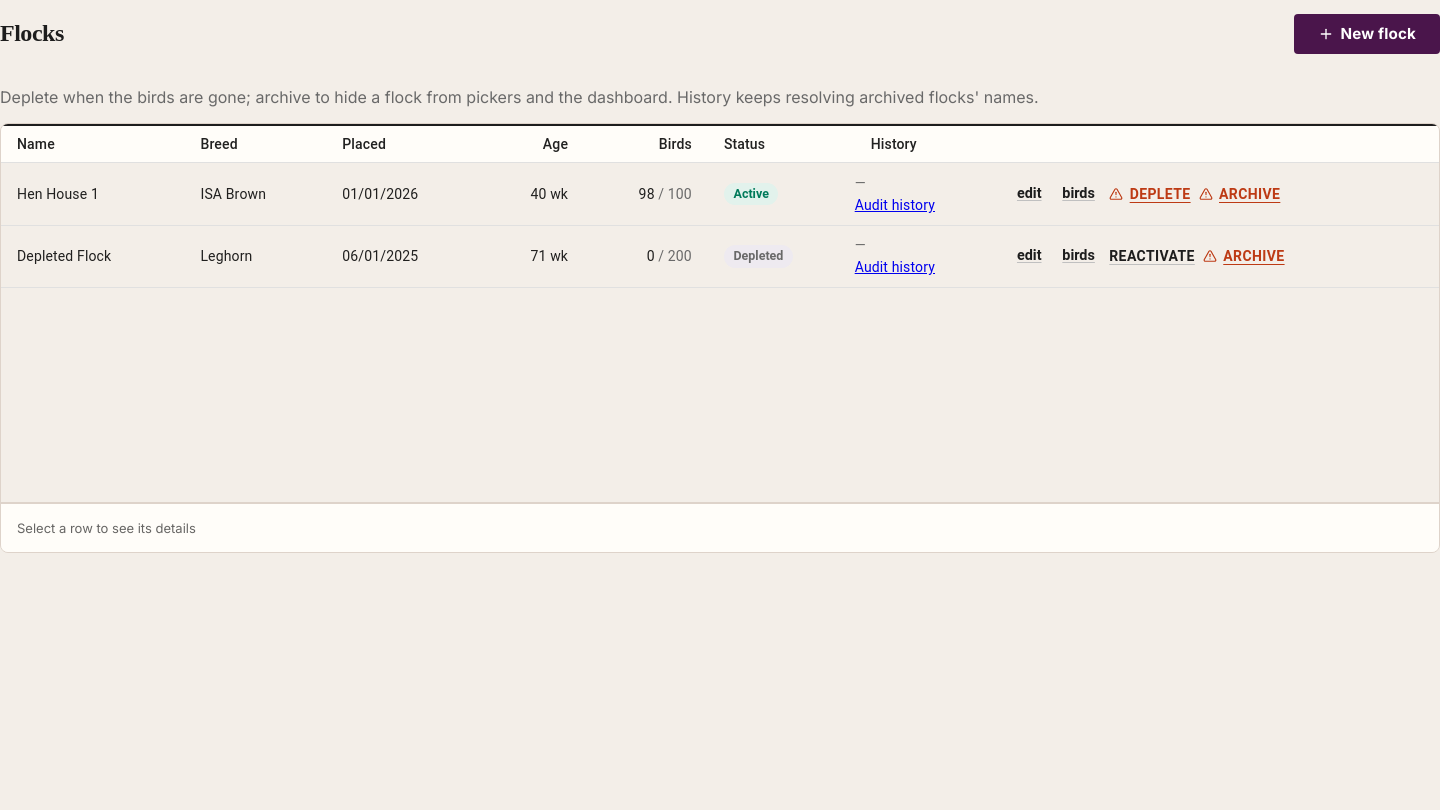
Test: FlocksPage selected-record inspector (#908) › returns focus to the next row after archiving from the inspector
The width and height of the screenshot is (1440, 810).
Expected: the row "Hen House 1" is shown, [1, 163, 1439, 225]
Press Enter
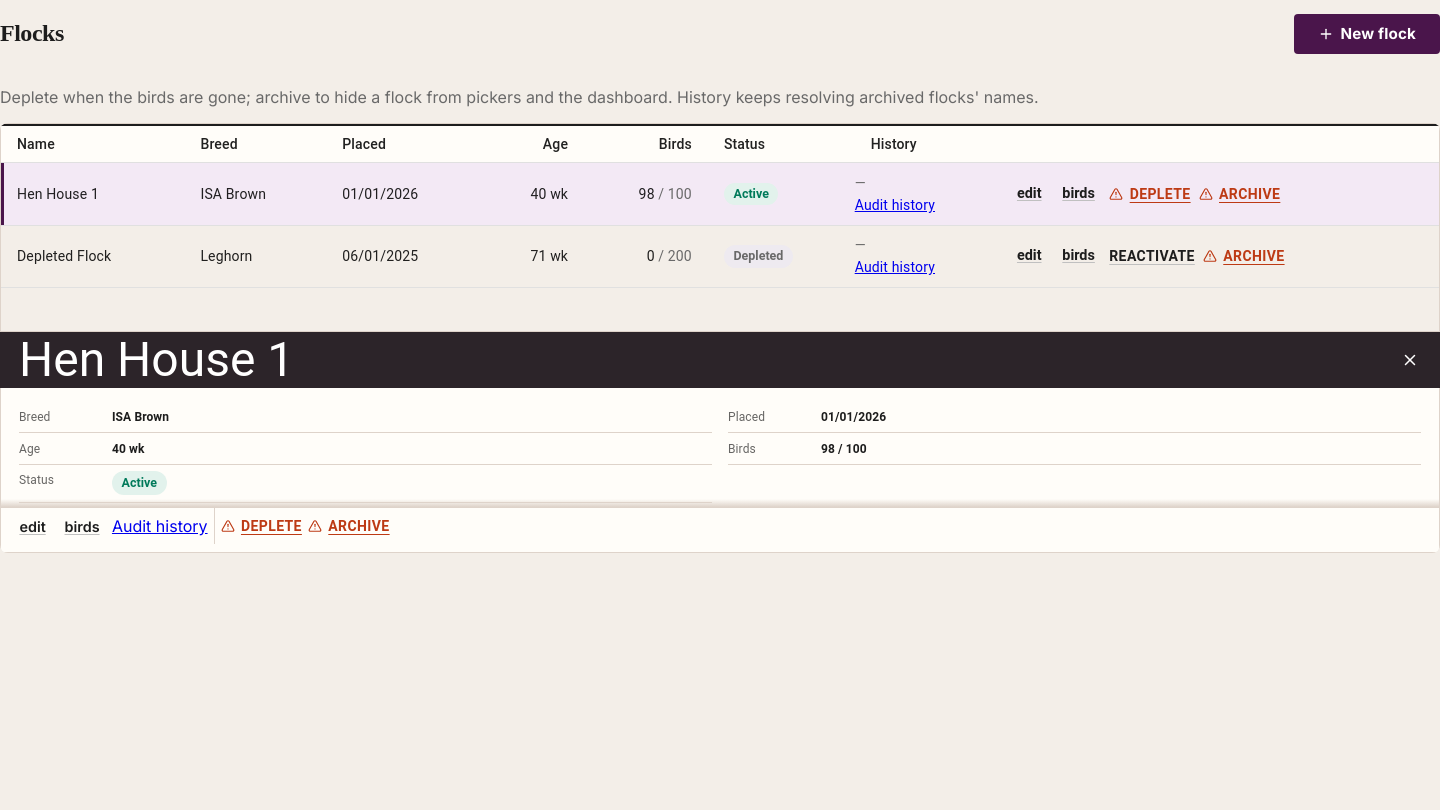
Click the 3rd button "archive". click: (349, 526)
box: [308, 508, 390, 544]
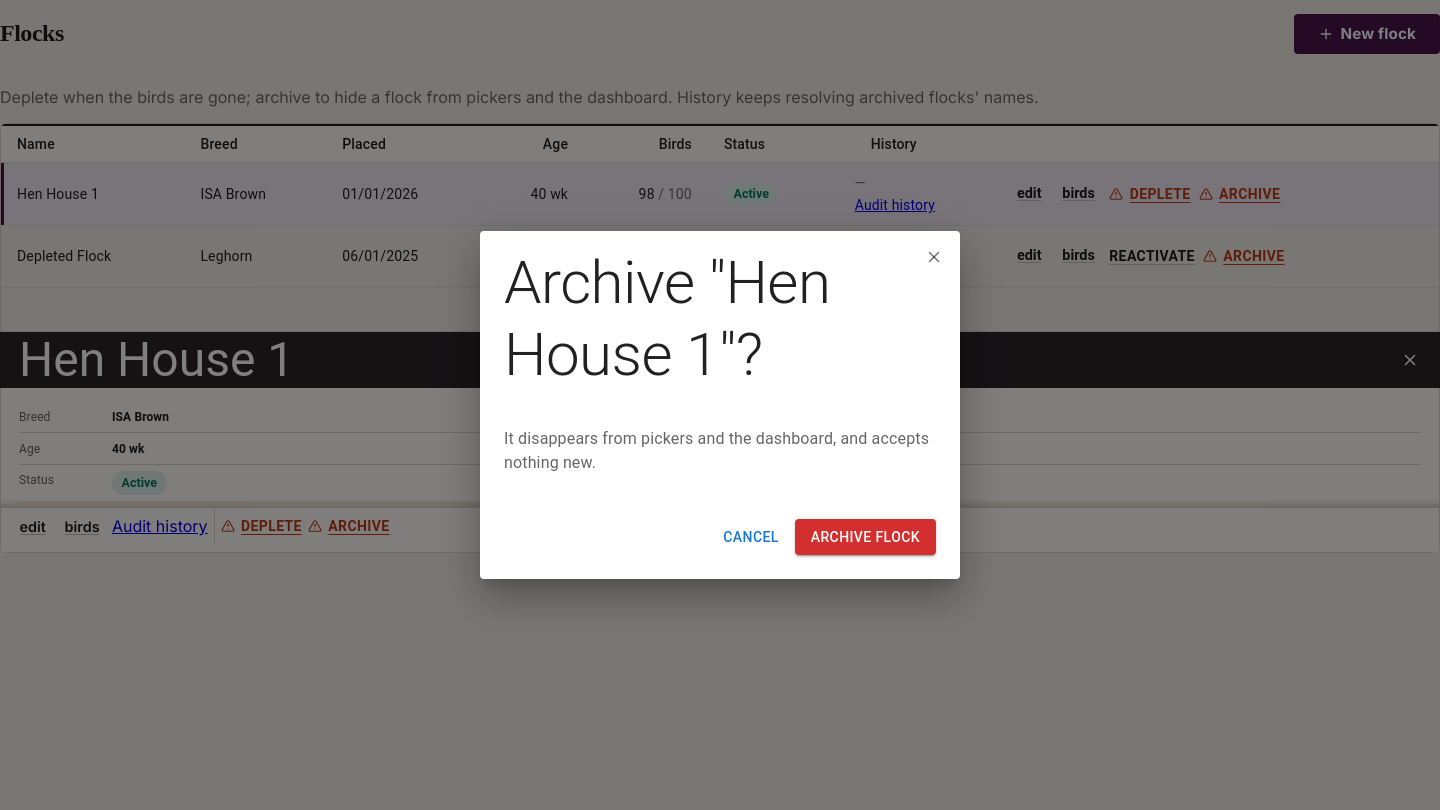
Click the button "Archive flock". click: (865, 537)
box: [795, 519, 936, 555]
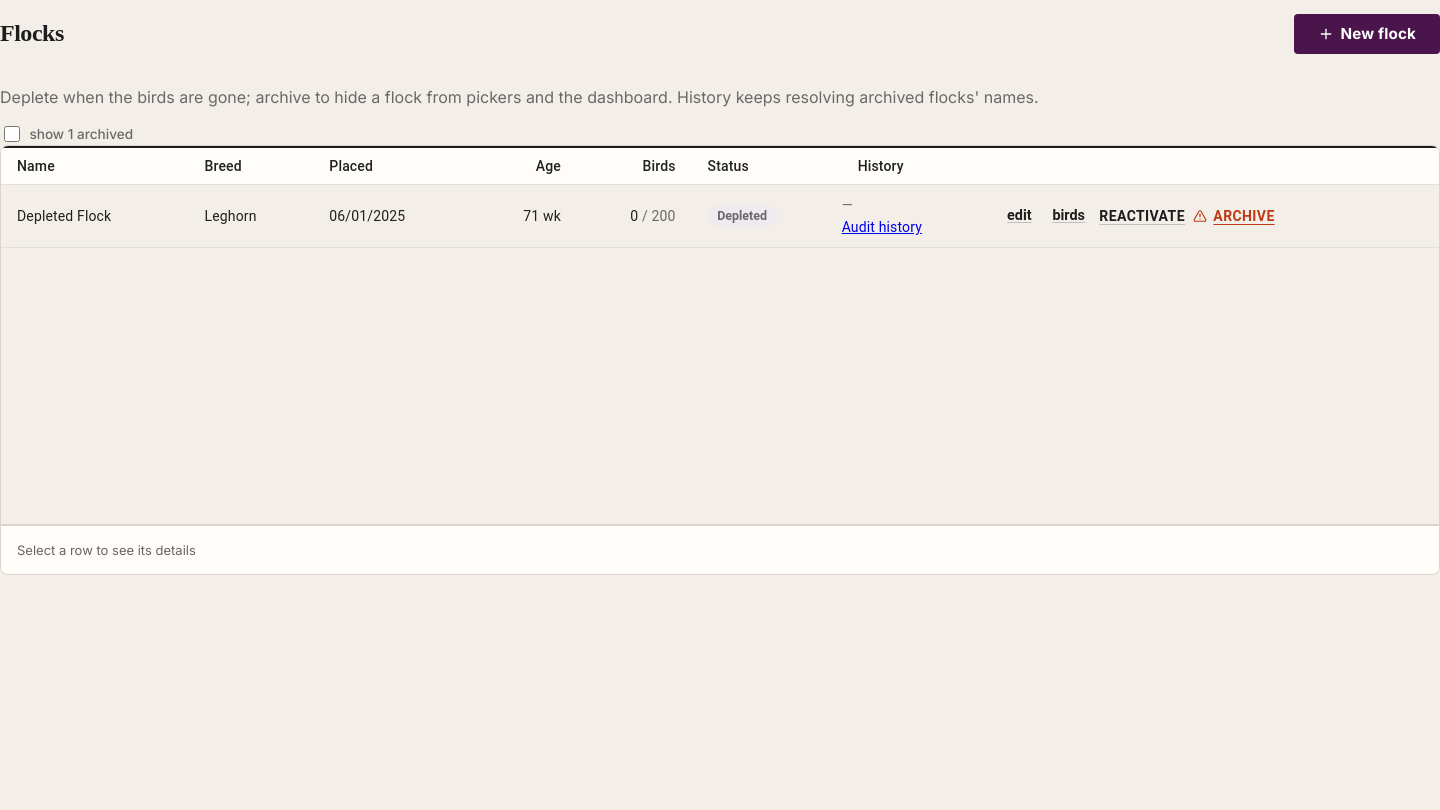
Expected: the cell "Hen House 1" is gone
